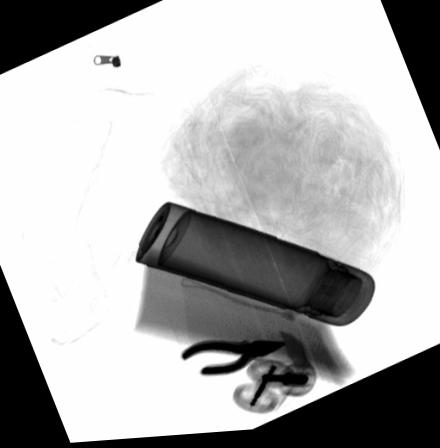Pliers: (179, 341, 288, 379)
